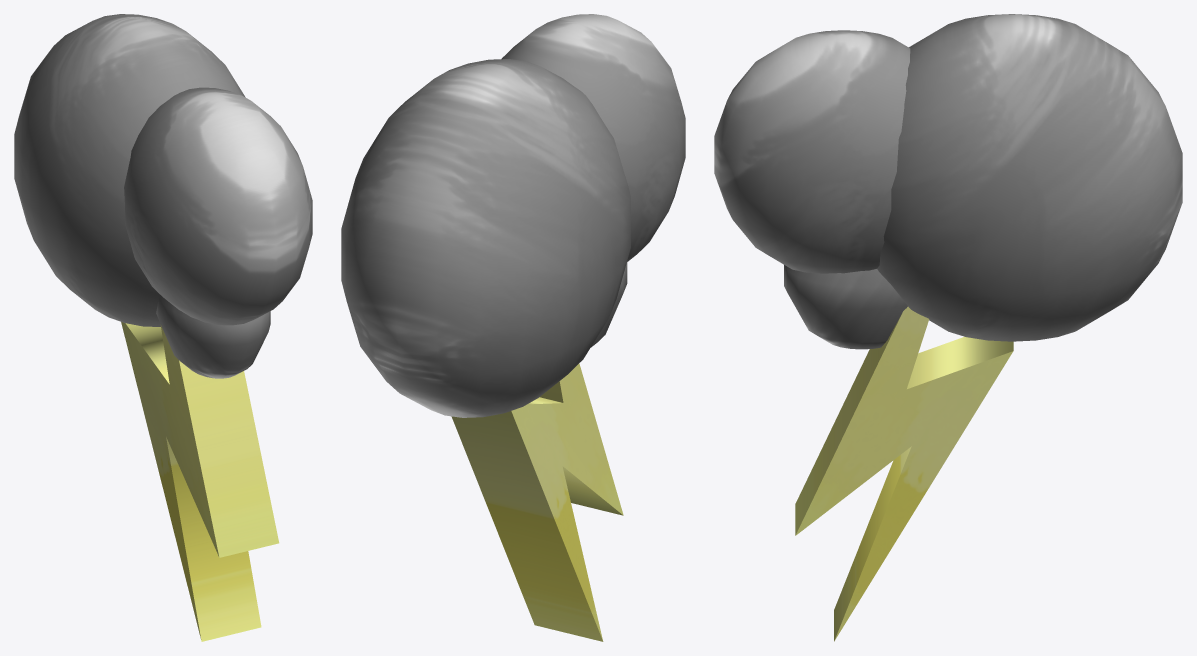
File: storm.dae
3 views of the same model, side by side, from view 1: azimuth 30°, elevation 25°; view 2: azimuth 150°, elevation 25°; view 3: azimuth 270°, elevation 25° (orthographic). The views are drawn at different scales.
Visible parts, largest first — view 1: polySurface1; view 2: polySurface1; view 3: polySurface1.
Part boxes in pixels (x1,y1,x2,y2): polySurface1: [14, 14, 312, 641]; polySurface1: [341, 14, 685, 641]; polySurface1: [714, 14, 1182, 641].
Size of the model in its own units: 7.55 by 20.03 by 14.17.
